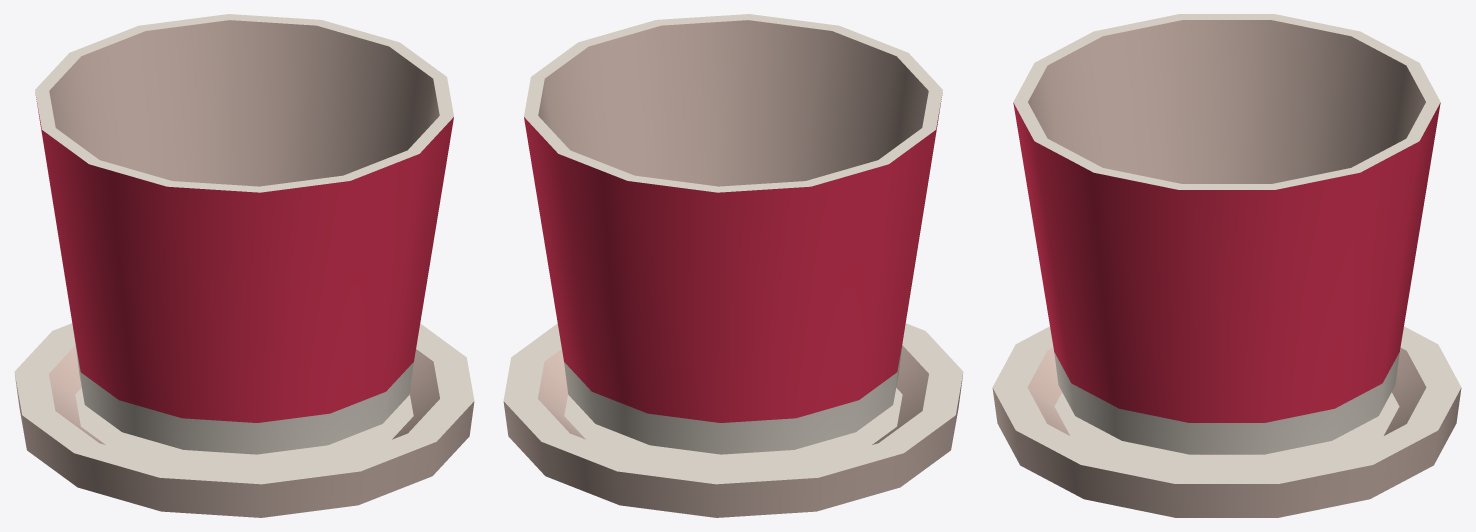
The model's file is PaperBowl_geo.fbx.
3 renders of one model, left to right at view 1: azimuth 30°, elevation 25°; view 2: azimuth 150°, elevation 25°; view 3: azimuth 270°, elevation 25°, orthographic.
Visible parts, largest first — view 1: PaperBowl_geo; view 2: PaperBowl_geo; view 3: PaperBowl_geo.
Part boxes in pixels (<box>): PaperBowl_geo: <box>14,14,474,517</box>; PaperBowl_geo: <box>503,14,963,517</box>; PaperBowl_geo: <box>992,14,1461,517</box>.
Bounding box in the file's own units: 0.6294 × 0.6456 × 0.488.
